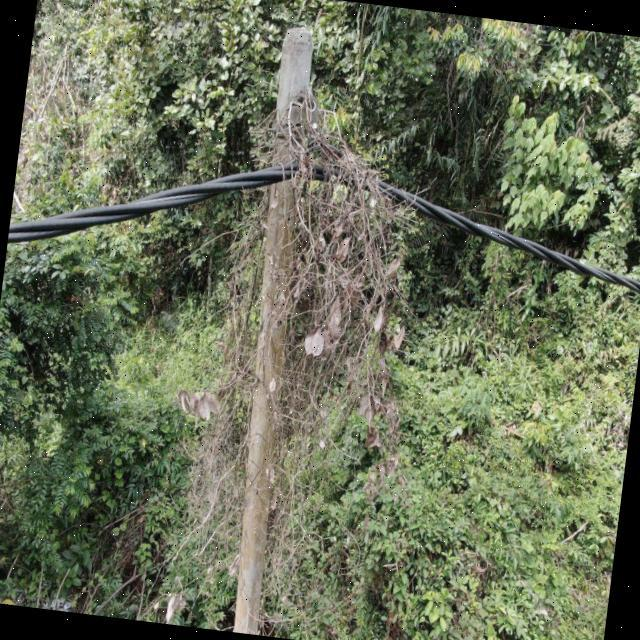critical vegetation: (146, 69, 436, 638)
